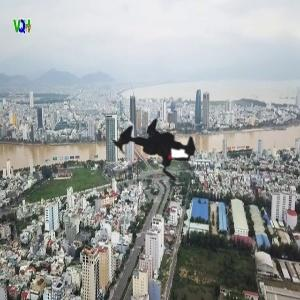drone: (92, 90, 218, 216)
